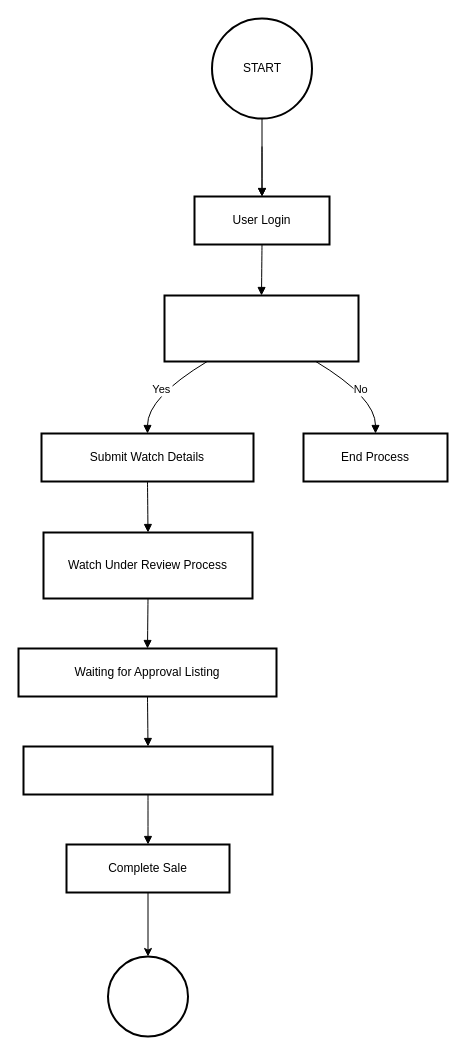
Image size: 465x1054. Some labels were removed from this diagram. Here are the shapes that lost their labels. From the top down, the centre of each, then its label:
At (261,328): "Check Membership Eligibility".
At (147,770): "Receive Offer/Negotiation".
At (147,996): "END".
